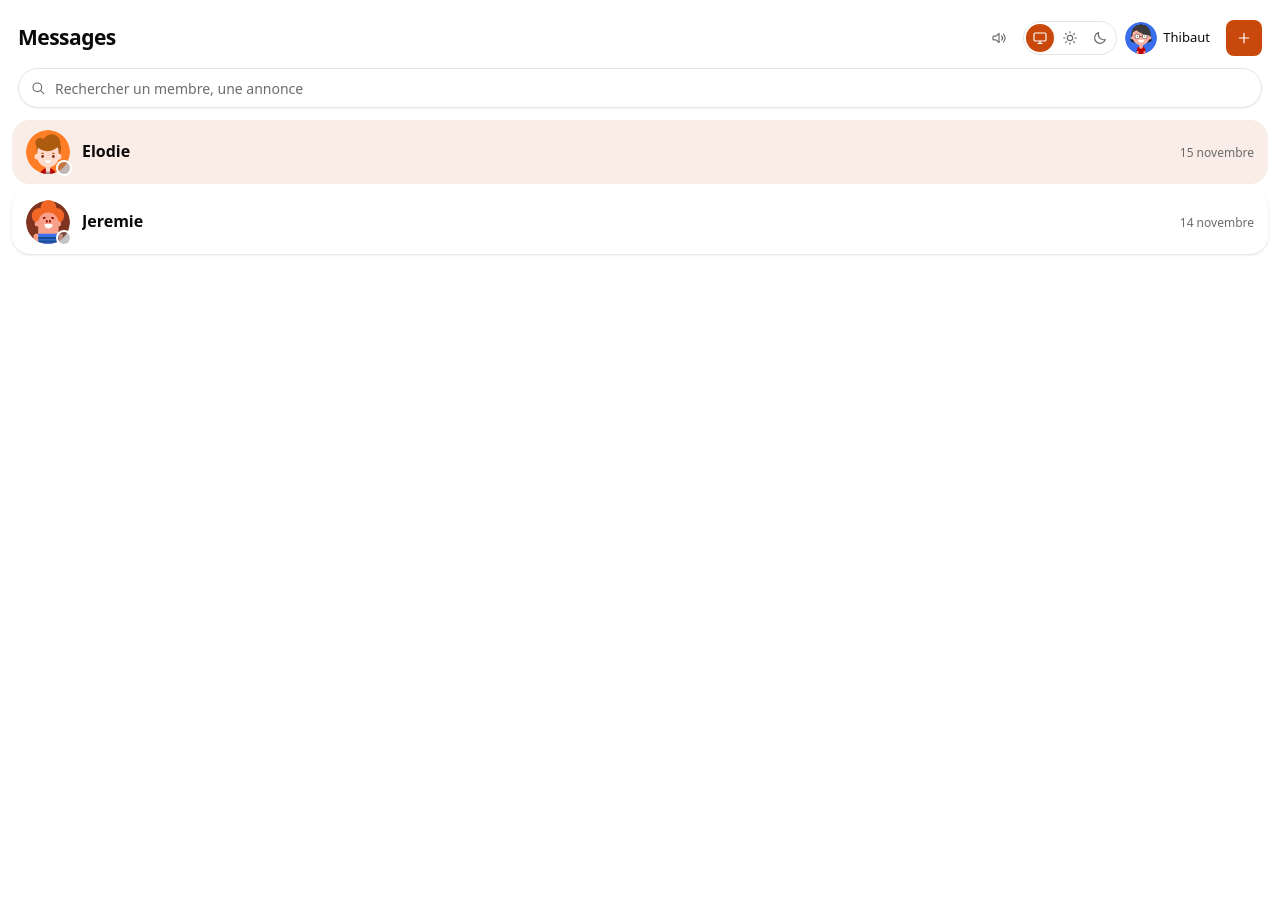
Test: ConversationList › filters the member list as the user types
expect the list named "Liste des conversations" is shown: met, box [12, 120, 1268, 254]
Click the button named "Nouvelle conversation": [1244, 38] box [1226, 20, 1262, 56]
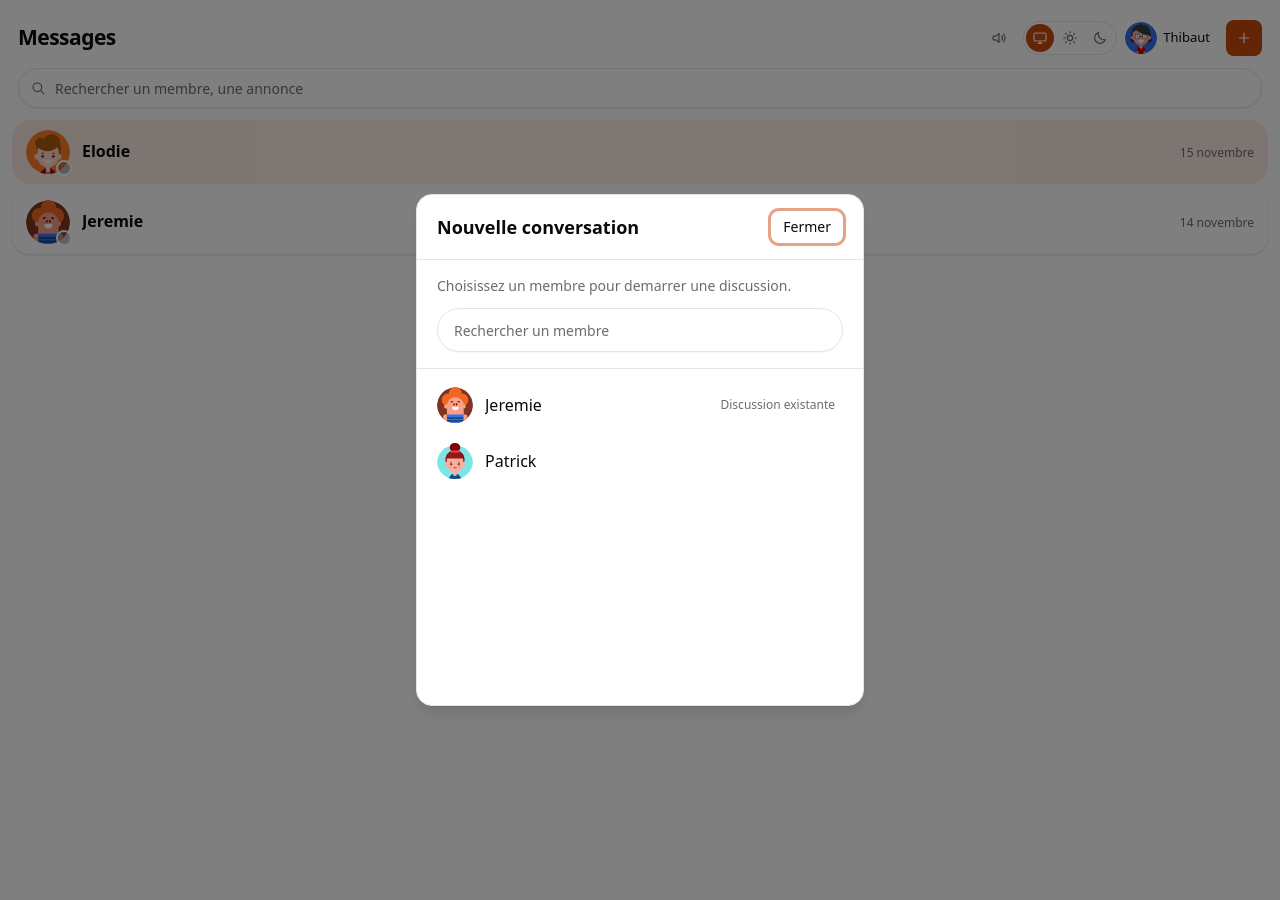
expect the text "Patrick" is shown: met, box [485, 450, 536, 472]
In the search field labelled "Rechercher un membre": [640, 330] box [437, 308, 843, 352], type "jer"
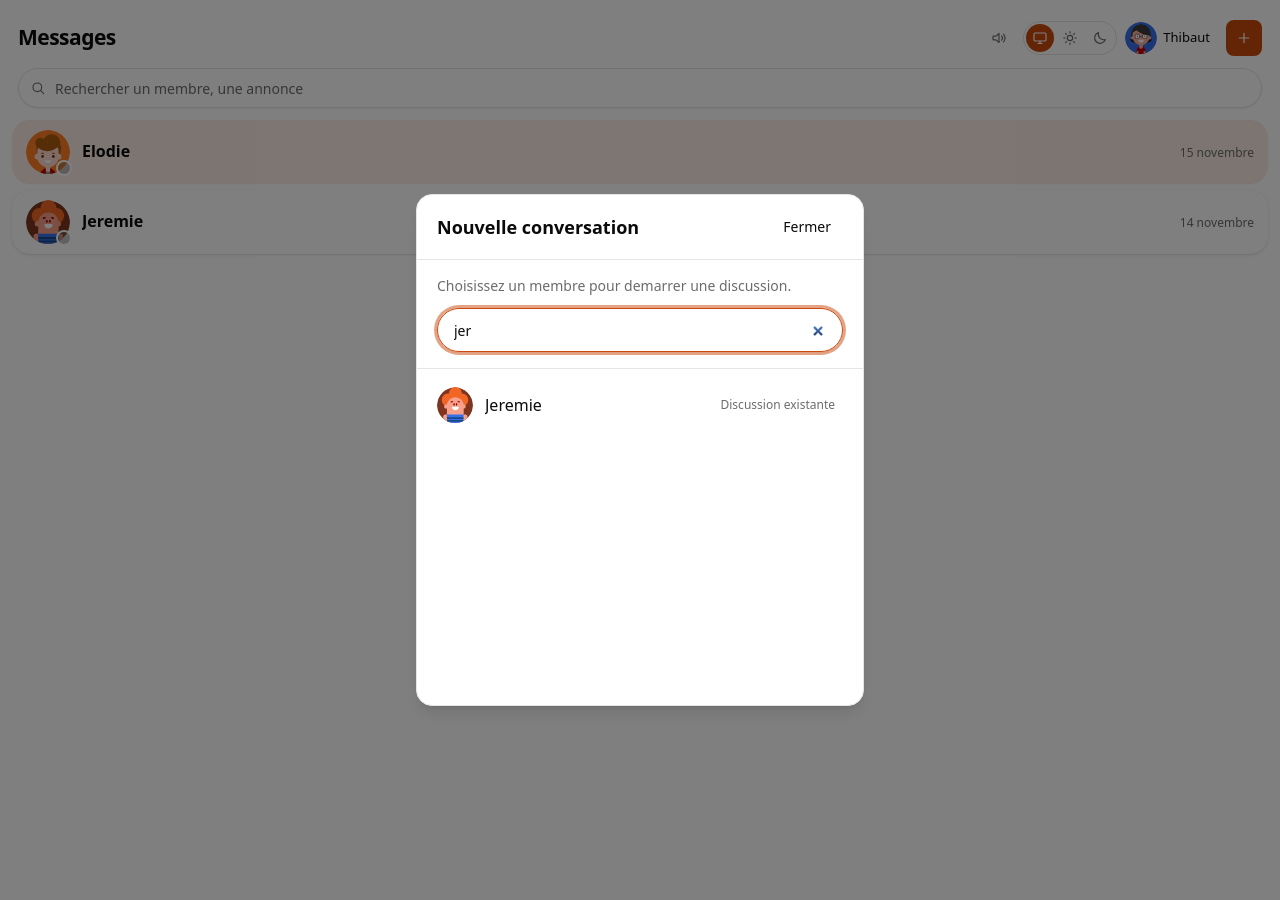
expect the text "Jeremie" is shown: met, box [485, 394, 542, 416]
expect the button "Patrick" is gone: met
